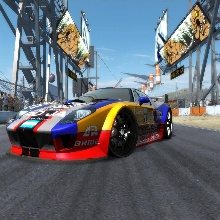no damage: (6, 87, 174, 163)
